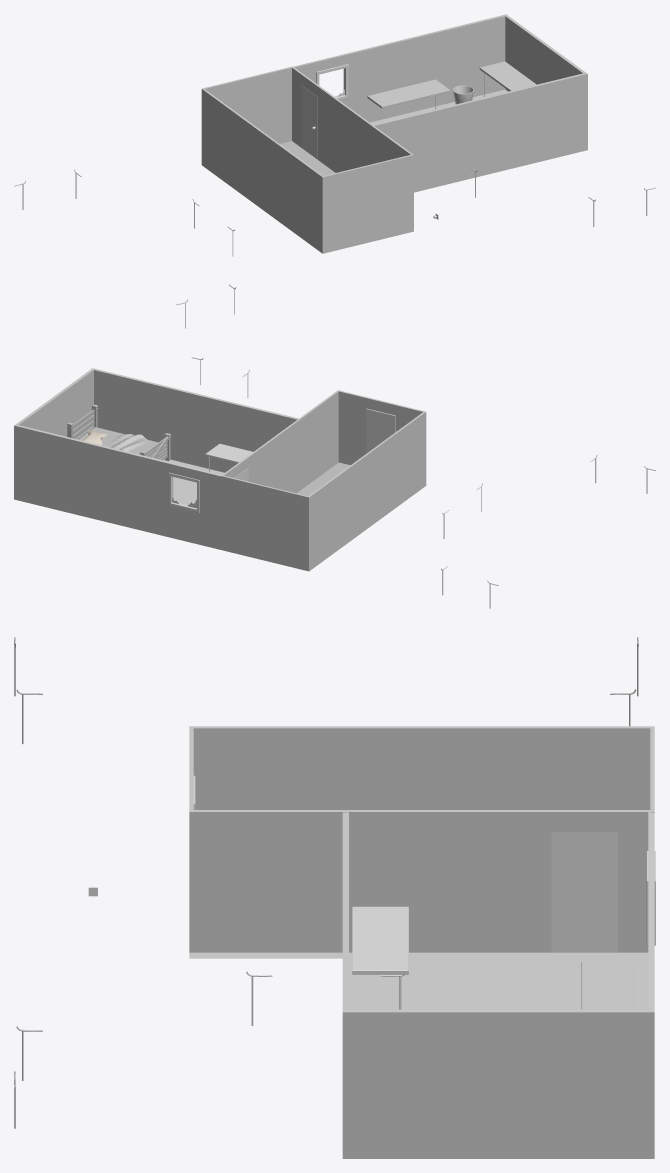
The model's file is ApartmentScene.gltf.
3 views of the same model, one above another, from view 1: azimuth 30°, elevation 25°; view 2: azimuth 150°, elevation 25°; view 3: azimuth 270°, elevation 25° (orthographic). The views are drawn at different scales.
Parts seen in each view (by area): view 1: Room, Hallway, Desk.001, ApartmentDoor, Desk.002; view 2: Room, Hallway, polySurface54, Door, Desk, Window; view 3: Hallway, Room, ApartmentDoor, Desk, Desk.001.
Boxes of the visible parts, <box> form: Room: <box>294,14,587,192</box>; Hallway: <box>201,66,413,253</box>; Desk.001: <box>367,79,450,108</box>; ApartmentDoor: <box>300,84,317,159</box>; Desk.002: <box>479,61,536,91</box>; Room: <box>14,368,298,549</box>; Hallway: <box>220,390,426,571</box>; polySurface54: <box>67,404,170,460</box>; Door: <box>366,408,395,453</box>; Desk: <box>205,443,252,463</box>; Window: <box>168,472,199,512</box>; Hallway: <box>189,726,654,958</box>; Room: <box>342,812,654,1158</box>; ApartmentDoor: <box>551,832,617,952</box>; Desk: <box>352,906,408,974</box>; Desk.001: <box>581,961,638,1009</box>.
Bounding box in the file's own units: 38.89 × 5.77 × 22.67.
